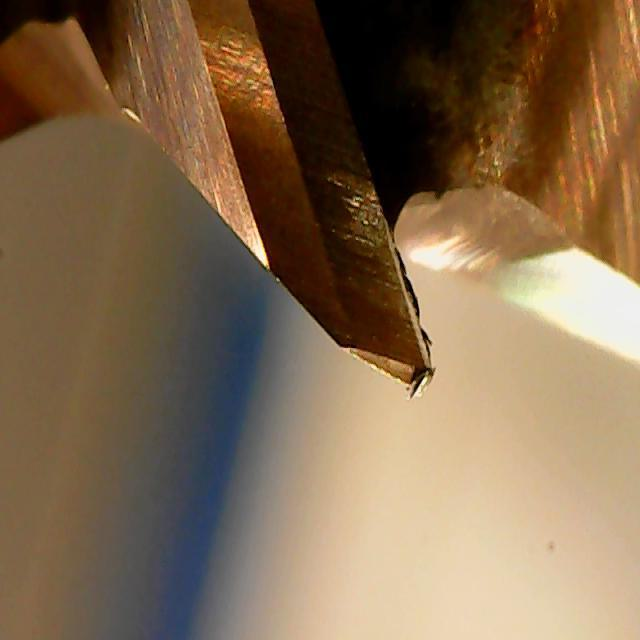Tool-wear-class-1: (241, 166, 454, 409)
